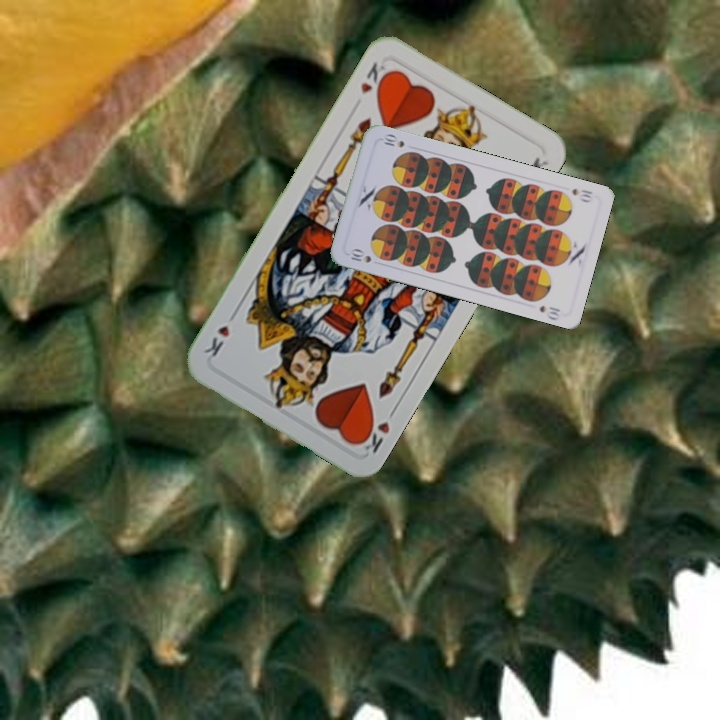HK: (354, 403, 400, 457), (356, 58, 392, 98)
S10: (568, 184, 595, 205), (346, 245, 374, 265)
